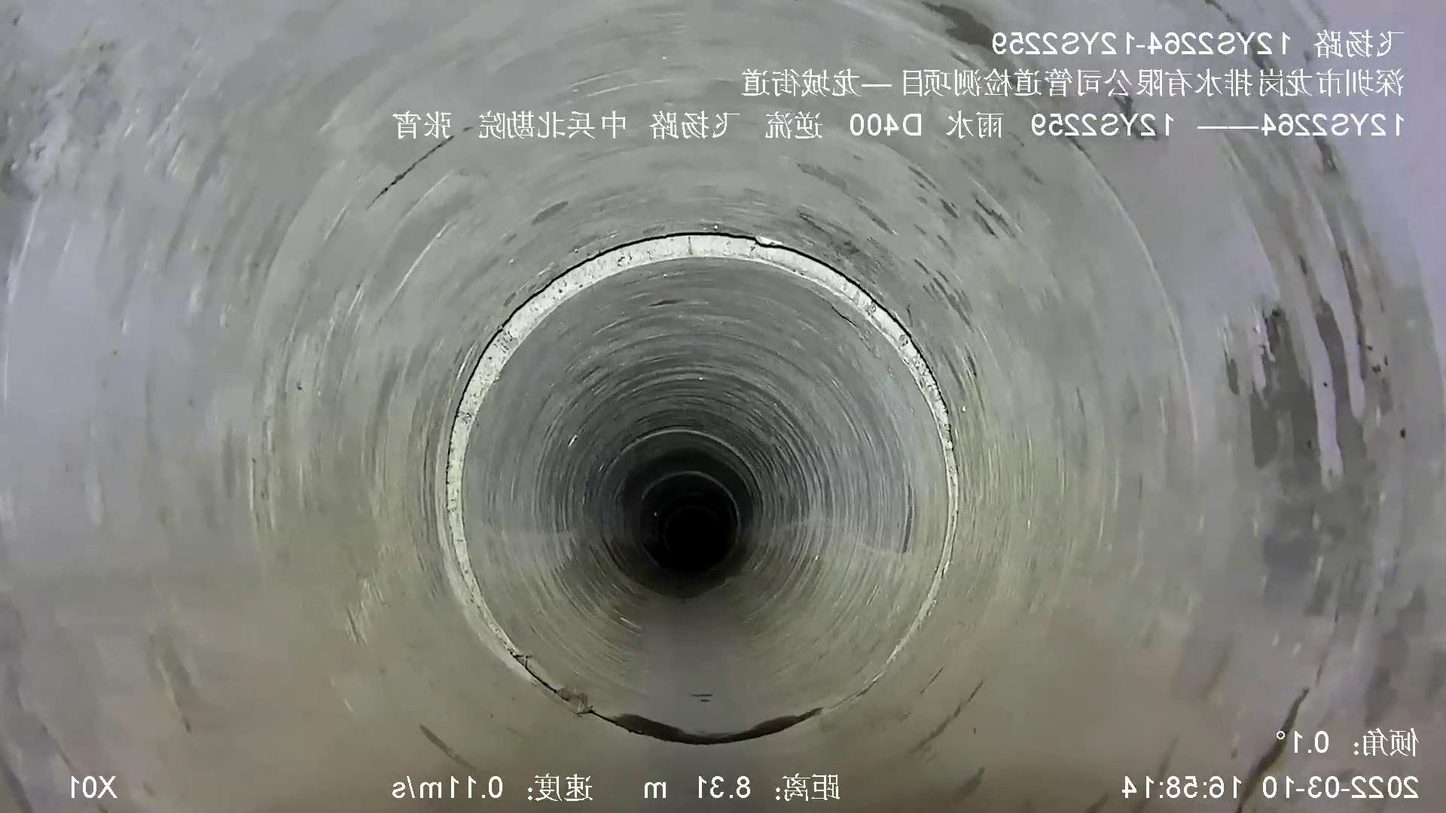CKTJ: (441, 233, 959, 723)
